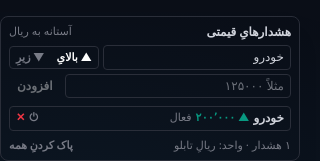
Test: پنلِ هشدار › حذفِ هشدار از لیست، لیست را خالی می‌کند
(page scrolled)
Click the button "✕".
click(21, 118)  # box [16, 112, 25, 125]
(page scrolled)
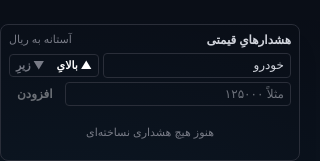
Now the text "هنوز هیچ هشداری نساخته‌ای" is shown, box [86, 125, 214, 139]
